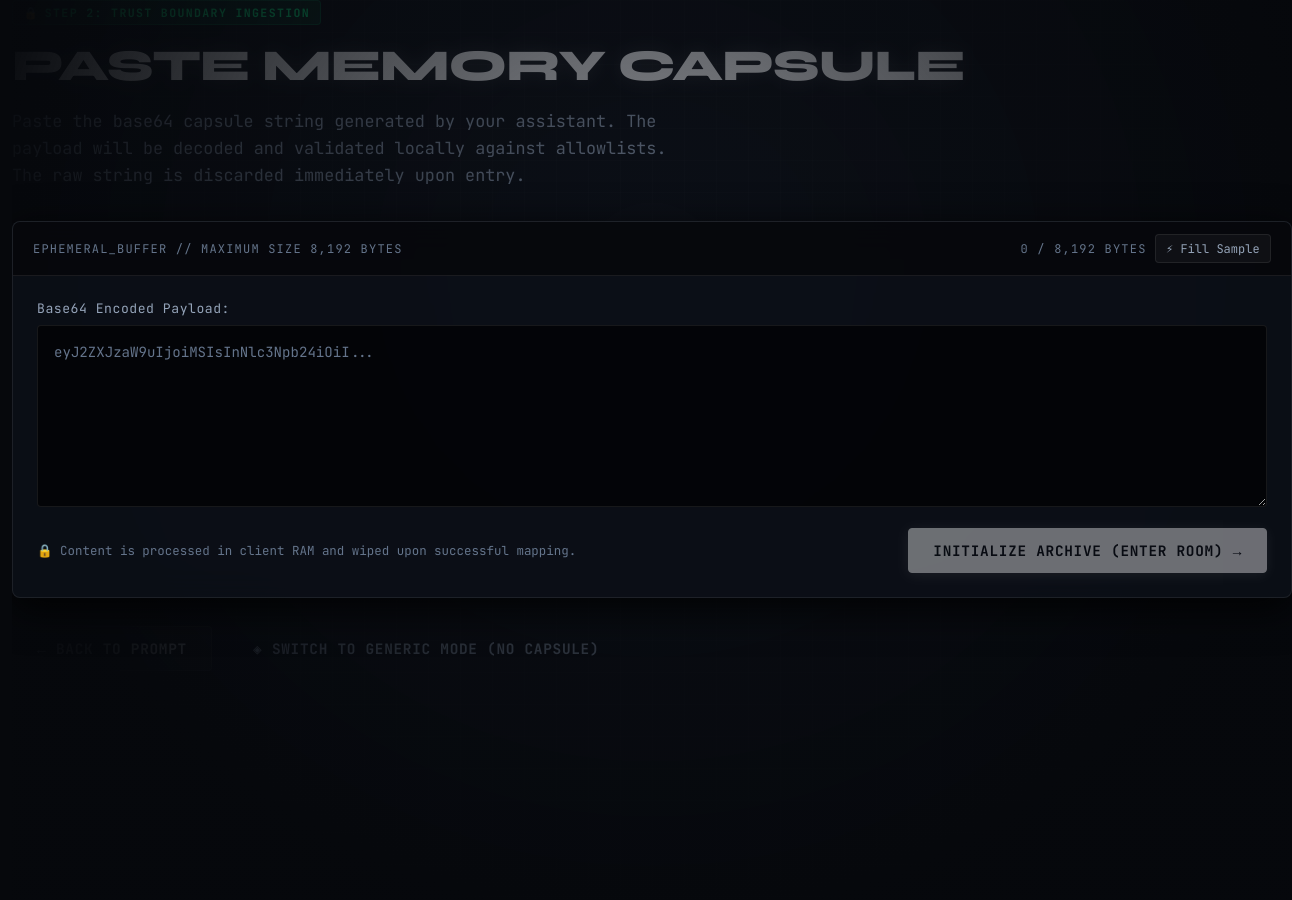
Test: CapsuleEntry component › rejects invalid base64 without exposing raw paste
Type "not-valid-base64!!!" into the text box labelled "Base64 Encoded Payload:" at coordinates (652, 416), box [37,325,1267,507]
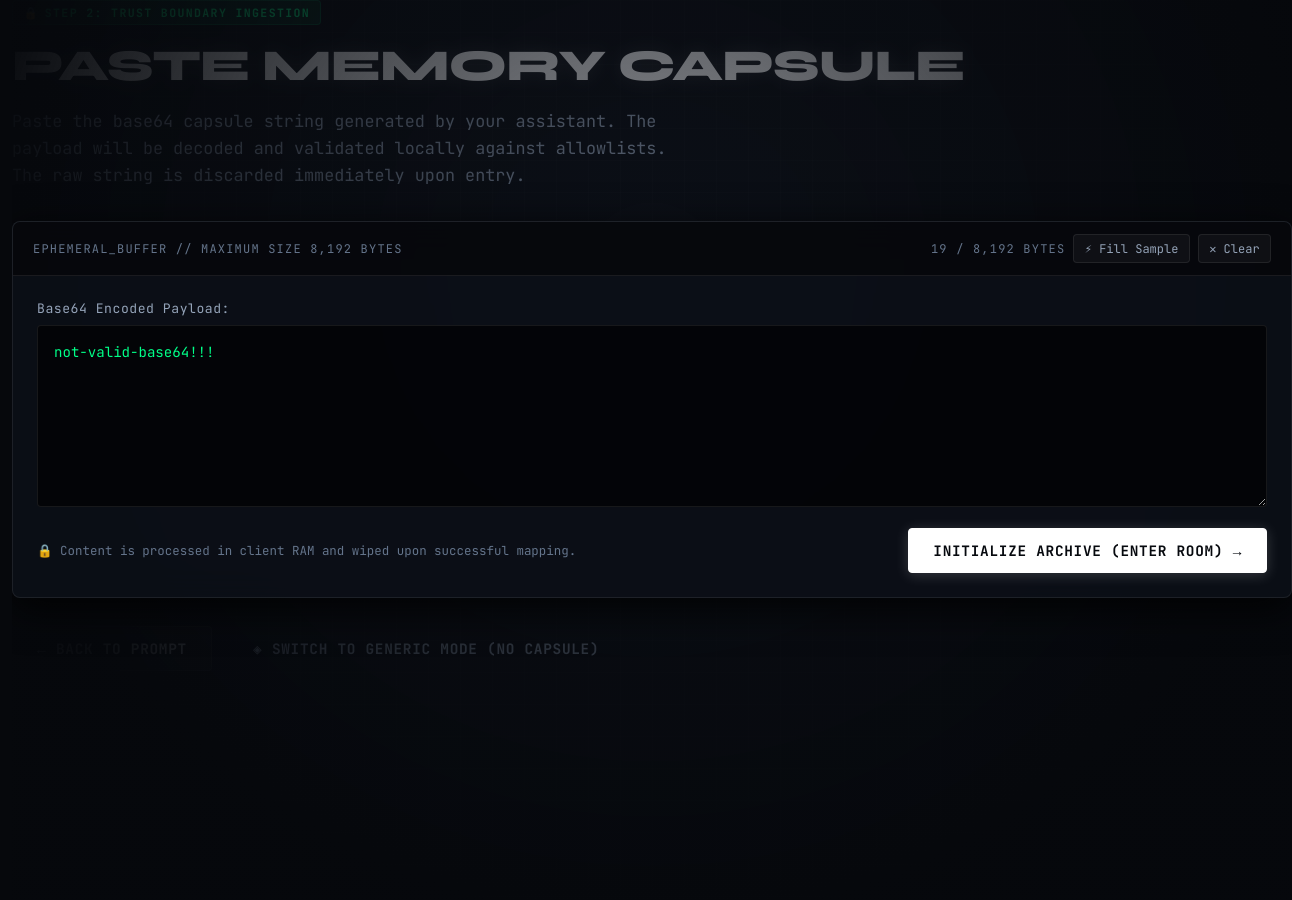
Click the button "INITIALIZE ARCHIVE (ENTER ROOM) →" at coordinates (1088, 550), box [908,528,1267,573]
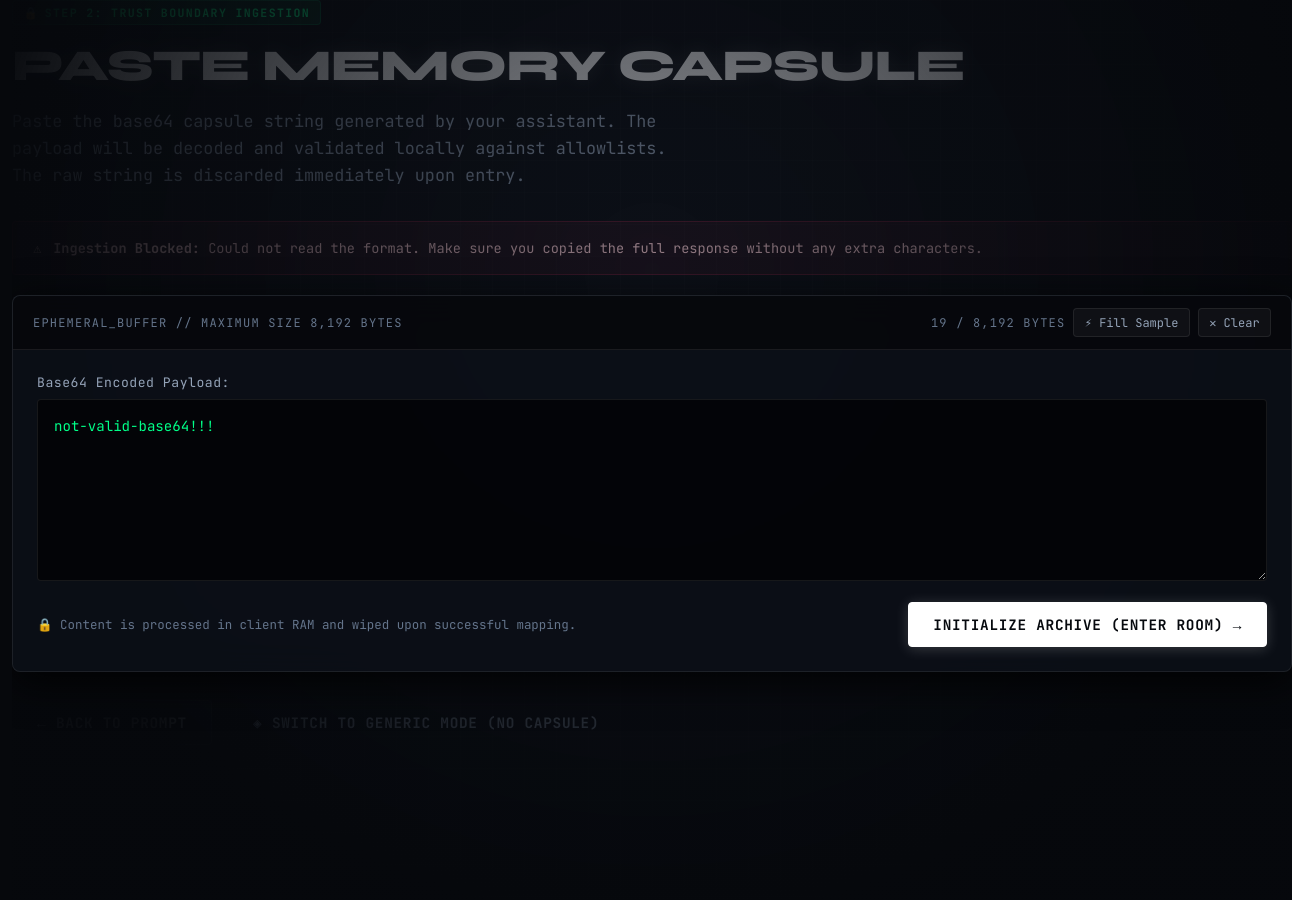
Check: the message does not show "not-valid-base64", box [12,221,1291,275]
Check: the message is shown, box [12,221,1291,275]
Check: the message shows "Could not read the format", box [208,239,983,257]
